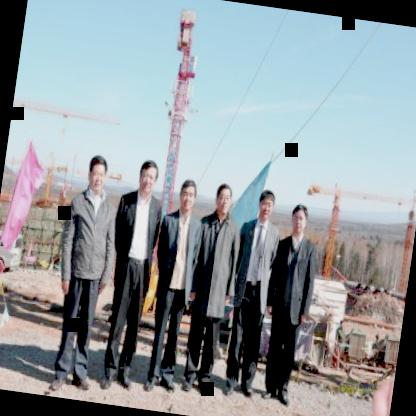head: (82, 150, 112, 196), (134, 154, 162, 198), (284, 199, 312, 241), (174, 176, 200, 216), (254, 184, 278, 224), (212, 178, 234, 221)
